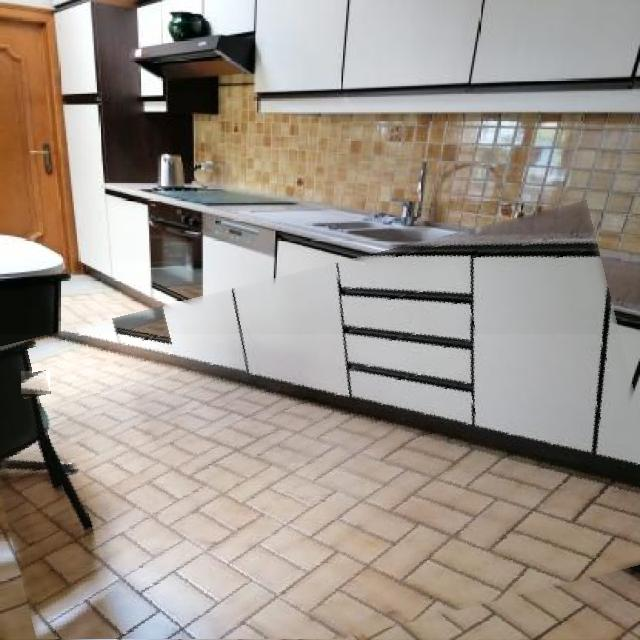floor: (0, 334, 640, 640), (21, 371, 50, 394)
